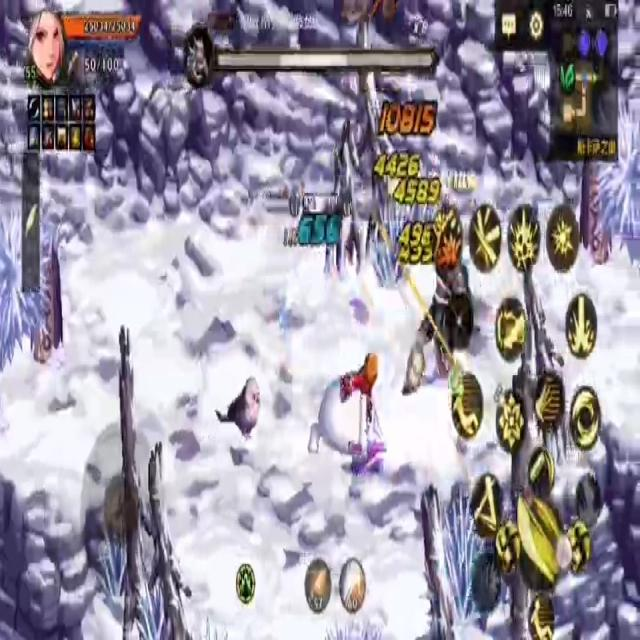player: (310, 348, 384, 470)
